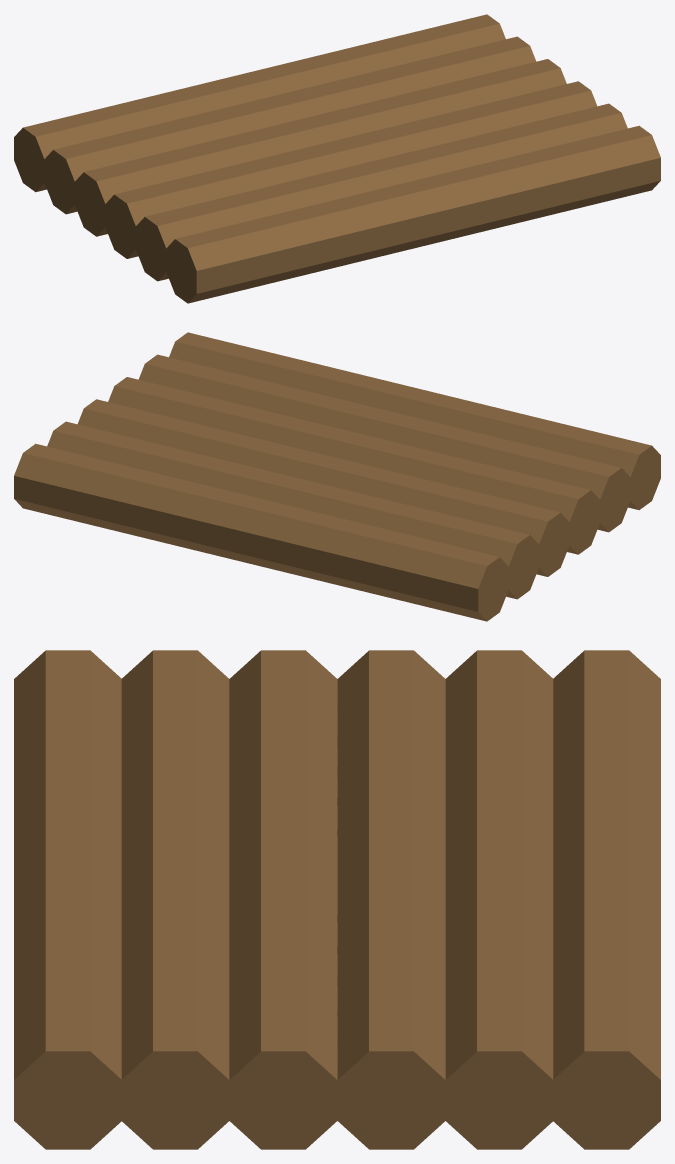
The model's file is raft.glb.
3 renders of one model, top to bottom at view 1: azimuth 30°, elevation 25°; view 2: azimuth 150°, elevation 25°; view 3: azimuth 270°, elevation 25°, orthographic. The views are drawn at different scales.
Visible parts, largest first — view 1: Cylinder; view 2: Cylinder; view 3: Cylinder.
Boxes of the visible parts, x1,y1,x2,y2 form: Cylinder: (14,14,660,303); Cylinder: (14,332,660,621); Cylinder: (14,650,660,1149).
Size of the model in its own units: 16.2 by 1.85 by 11.05.
